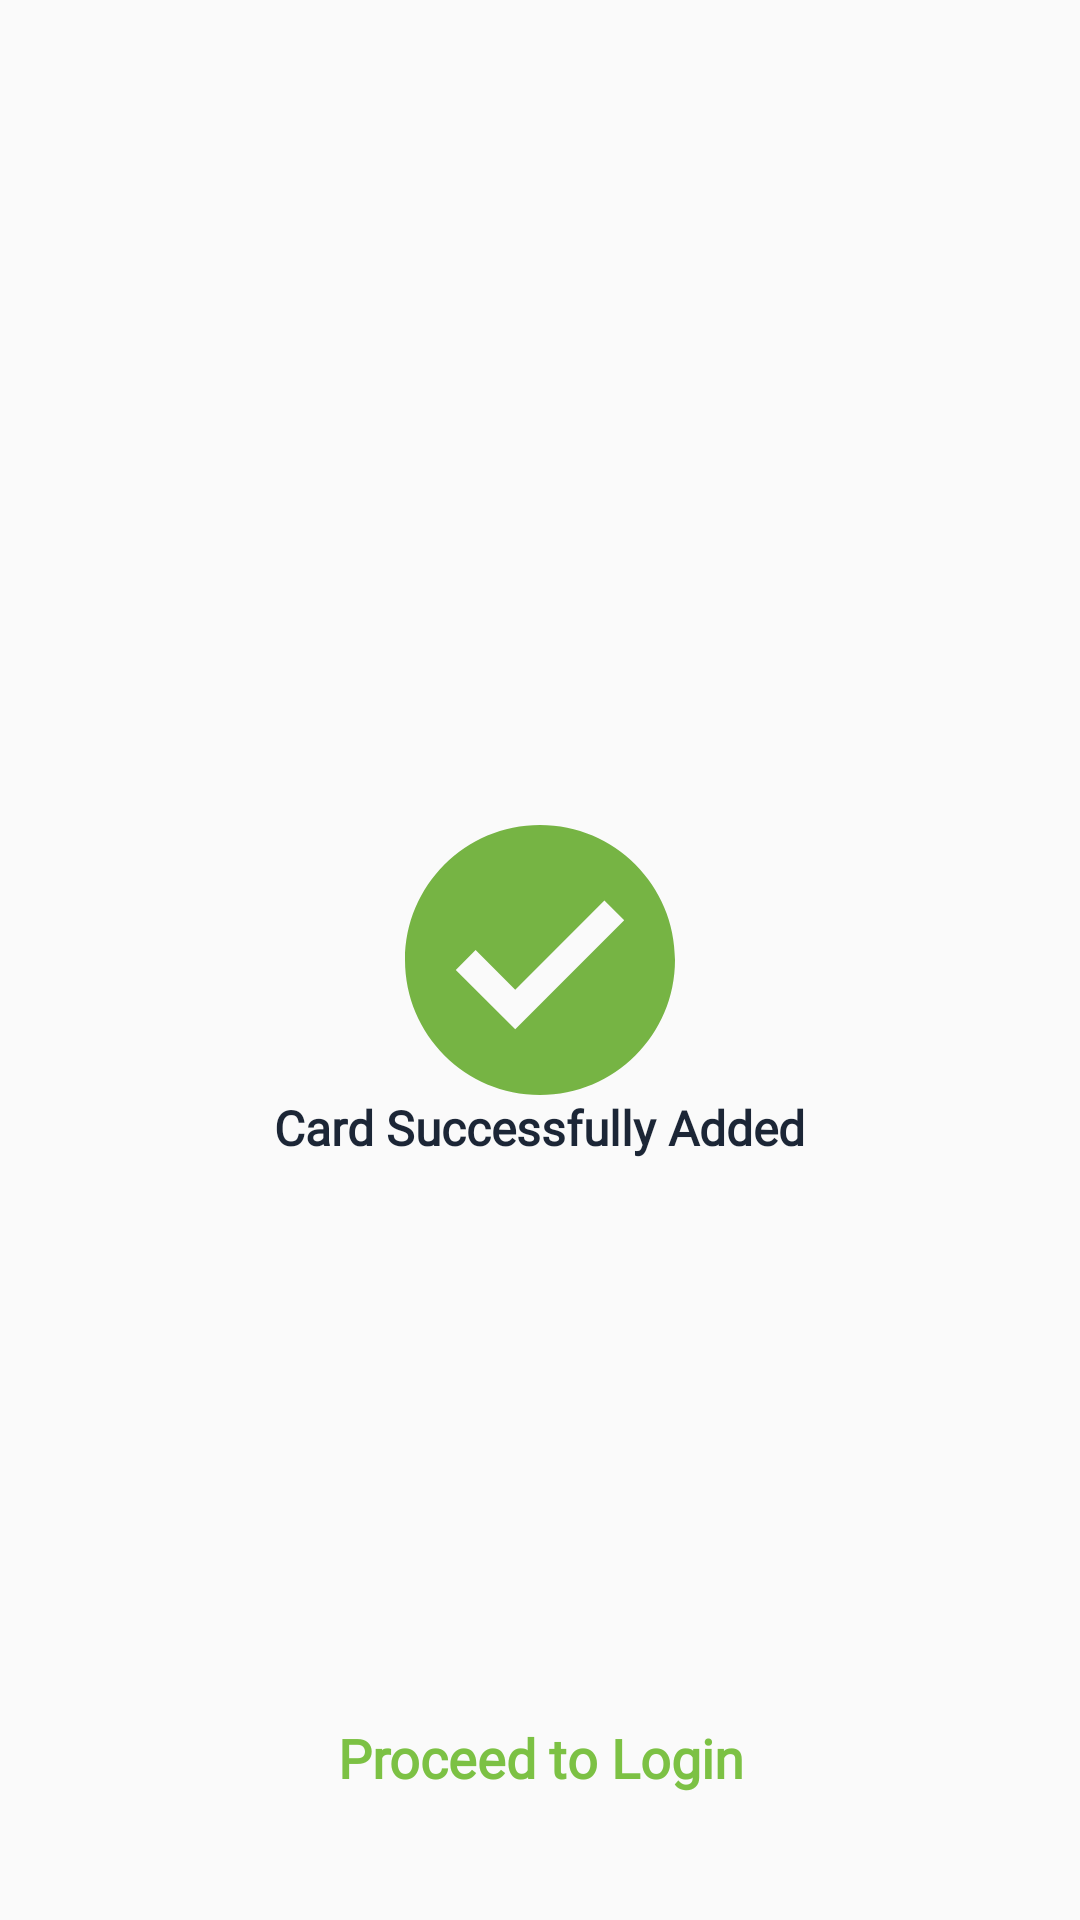

Where to tap for icons on this 1080 × 1920 app screen, as [x,y]:
checked: [540,960]
